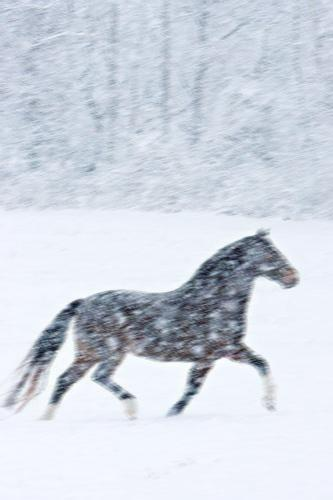horse: (0, 226, 298, 421)
